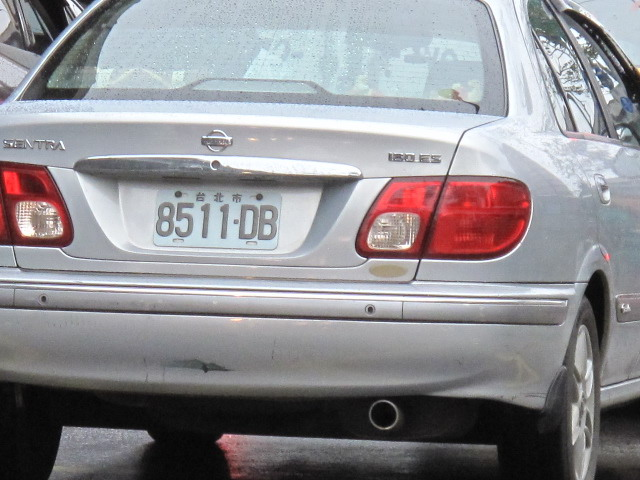plate: (154, 183, 283, 249)
